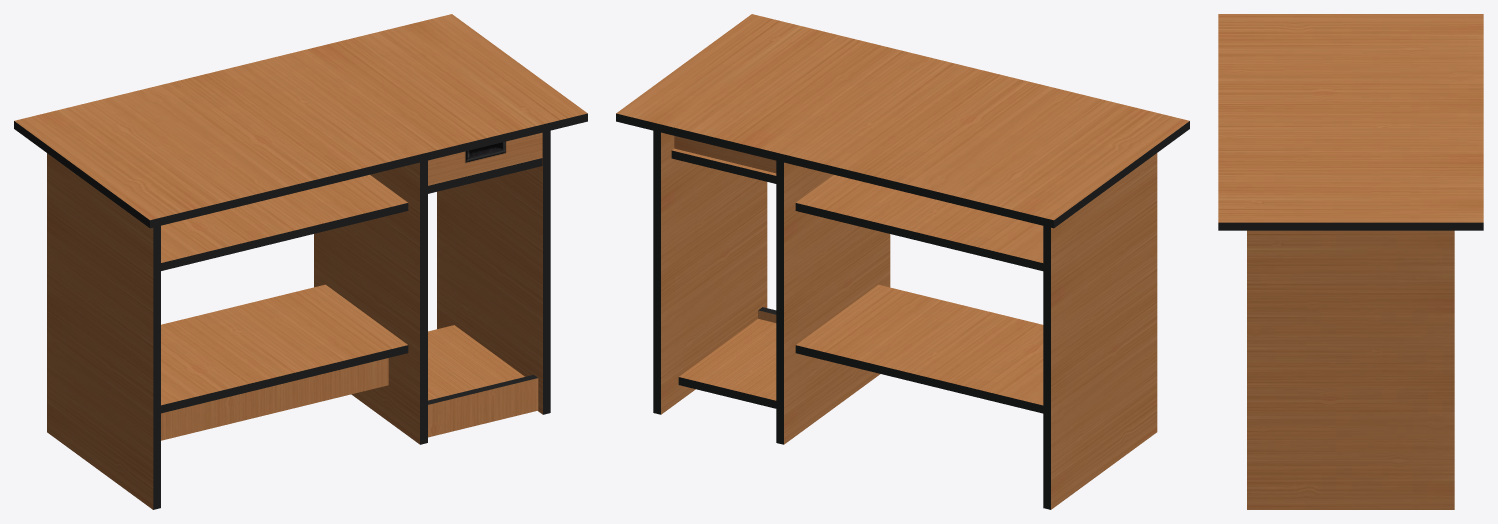
The model's file is computer table1.FBX.
3 views of the same model, side by side, from view 1: azimuth 30°, elevation 25°; view 2: azimuth 150°, elevation 25°; view 3: azimuth 270°, elevation 25° (orthographic). The views are drawn at different scales.
Visible parts, largest first — view 1: computer table1; view 2: computer table1; view 3: computer table1.
Boxes of the visible parts, <box> form: computer table1: <box>14,14,587,509</box>; computer table1: <box>616,14,1189,509</box>; computer table1: <box>1218,14,1483,509</box>.
Bounding box in the file's own units: 11.9 × 7.92 × 6.4.
